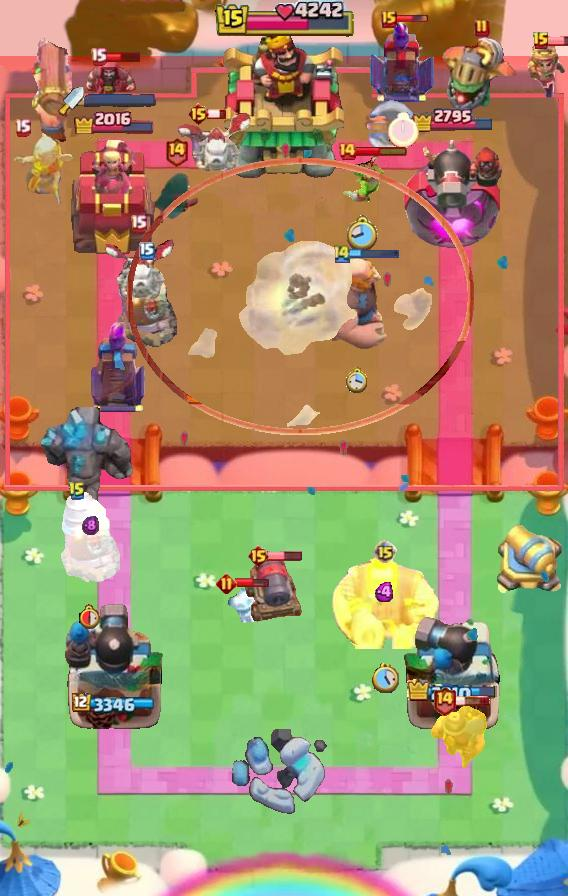balloon: (323, 250, 391, 352)
bandit: (427, 703, 489, 773)
bar: (70, 138, 158, 256)
bat: (220, 581, 266, 625)
battle-healer: (28, 30, 76, 144)
bomber-evolution: (524, 41, 568, 99)
bowler: (85, 54, 137, 102)
cannoneer-tower: (38, 407, 136, 509)
clock: (214, 0, 354, 40)
electro-spirit: (375, 582, 396, 602), (82, 516, 99, 537)
elixir: (347, 215, 379, 253), (389, 112, 420, 148), (372, 663, 399, 693), (347, 366, 370, 393), (79, 603, 102, 629)
emote: (349, 247, 401, 260), (355, 145, 408, 157), (106, 49, 143, 63), (267, 550, 303, 562), (234, 577, 270, 589), (454, 695, 490, 707), (395, 14, 429, 24), (548, 35, 568, 47), (207, 108, 227, 120)
giant-skeleton: (330, 555, 440, 649)
ice-spirit-evolution-symbol: (369, 18, 437, 104), (88, 322, 148, 414)
king-tower: (224, 29, 344, 181)
king-tower-bar: (84, 93, 156, 107)
magic-archer: (117, 256, 177, 348), (60, 491, 120, 583)
mini-pekka: (175, 112, 253, 176), (99, 238, 177, 302)
night-witch: (441, 36, 523, 114)
poison: (0, 131, 88, 215)
royal-ghost: (127, 157, 473, 434)
royal-giant: (360, 99, 416, 157)
royal-giant-evolution: (243, 555, 305, 625)
royal-recruit: (494, 523, 568, 599)
selected: (407, 678, 499, 705), (411, 106, 495, 132), (72, 108, 155, 134), (71, 693, 156, 715)
tesla: (152, 172, 200, 228)
text: (163, 137, 188, 168), (431, 685, 456, 715), (373, 540, 397, 564), (187, 102, 210, 126), (246, 544, 269, 568), (215, 574, 236, 595), (332, 243, 352, 265), (337, 141, 357, 161), (532, 31, 550, 51), (68, 481, 86, 501), (474, 18, 490, 38), (89, 47, 106, 65), (13, 119, 30, 137), (130, 215, 147, 233), (381, 10, 397, 28), (139, 242, 155, 260)
tower-bar: (401, 132, 508, 256), (64, 601, 164, 731), (402, 615, 504, 731)
zap: (343, 157, 385, 203)
